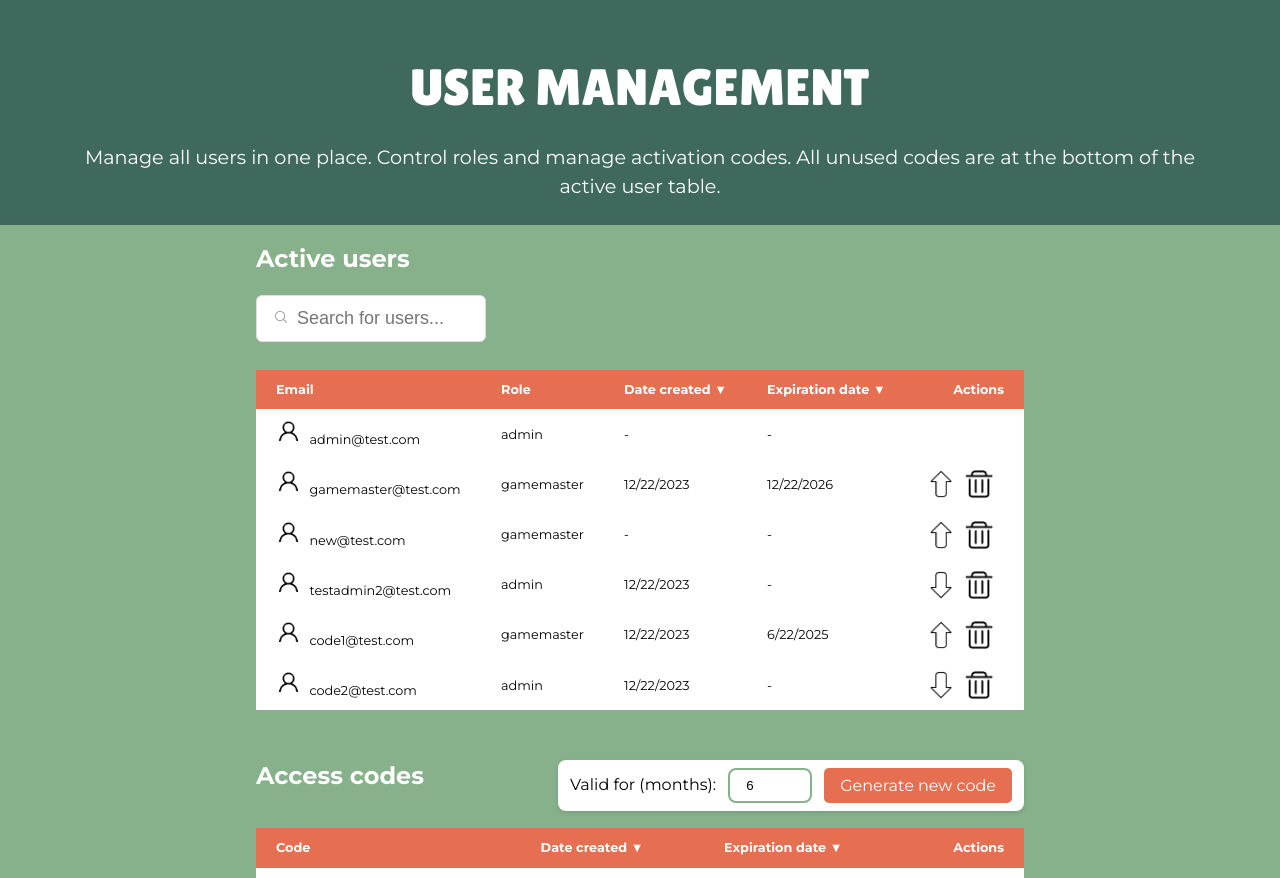
Test: EditUsers › promote user
Click the picture titled "Promote" in the row of "gamemaster@test.com": (941, 484) [926,470,956,500]
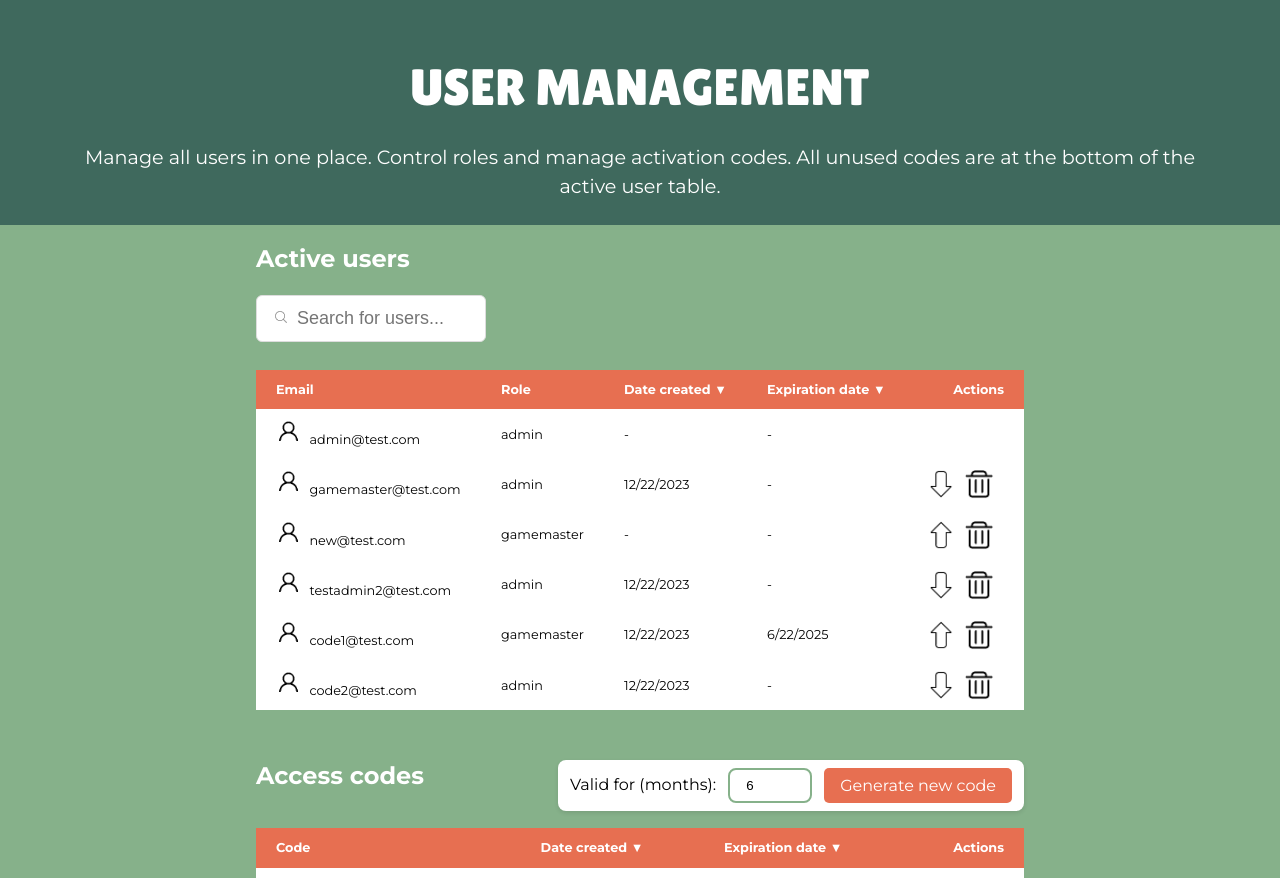
Result: the text "admin" next to "gamemaster@test.com" is shown at [501,477,543,492]
Result: the text "-" in the row of "gamemaster@test.com" is shown at [767,477,772,492]
